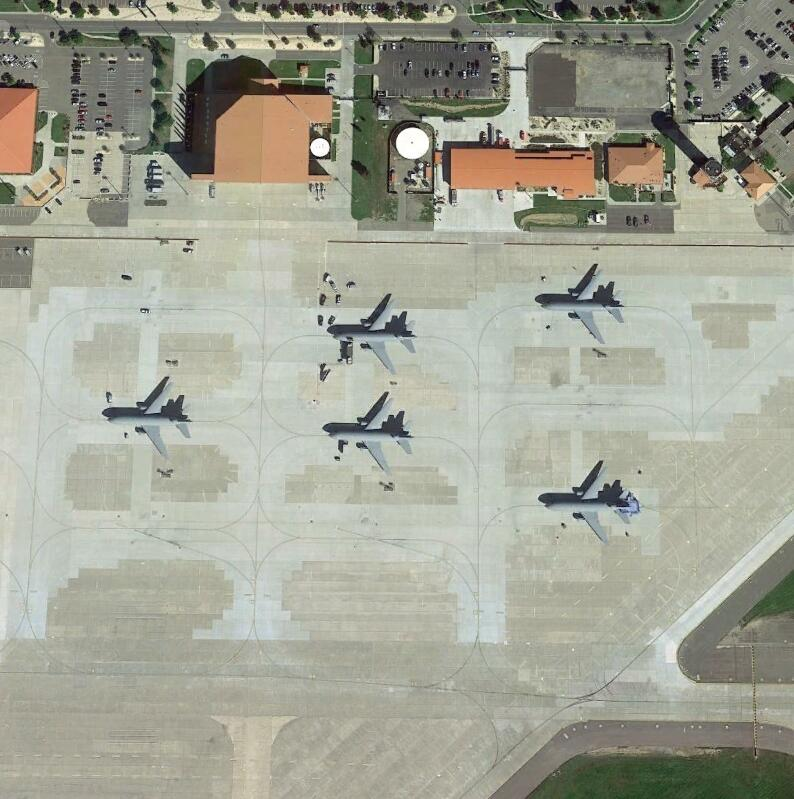A18: (104, 379, 196, 460), (329, 297, 419, 378), (546, 468, 639, 545), (326, 396, 414, 477), (538, 271, 627, 344)
